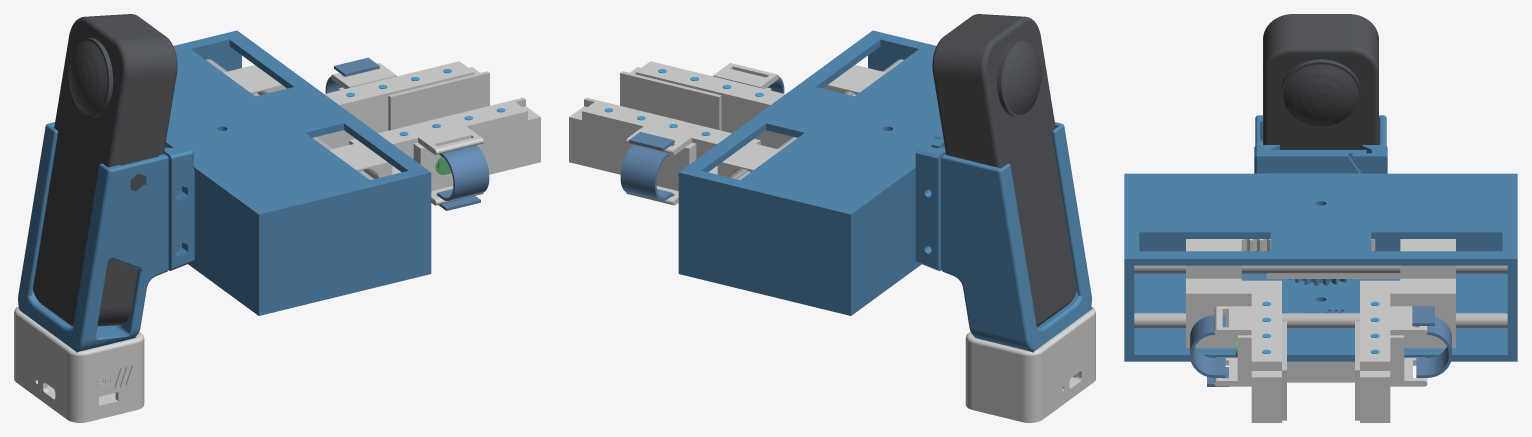
File: parallel_right.glb
3 views of the same model, side by side, from view 1: azimuth 30°, elevation 25°; view 2: azimuth 150°, elevation 25°; view 3: azimuth 270°, elevation 25° (orthographic).
Parts seen in each view (by area): view 1: parallel_base_dc, insta360_x5_envelope, x5_lite_frame, pg_pod, parallel_finger_right_button, parallel_finger_left_sleeve, parallel_pad_left, parallel_strap_right, parallel_carriage_right, parallel_carriage_left, pg_pod_lid, parallel_strap_left; view 2: parallel_base_dc, insta360_x5_envelope, x5_lite_frame, pg_pod, parallel_finger_left_sleeve, parallel_finger_right_button, parallel_pad_right, chopstick_clip_dc, parallel_strap_left, parallel_carriage_left, parallel_carriage_right, pg_pod_lid; view 3: parallel_base_dc, insta360_x5_envelope, parallel_finger_right_button, parallel_finger_left_sleeve, parallel_rod_bottom, parallel_rod_top, parallel_carriage_left, parallel_carriage_right, parallel_strap_left, parallel_strap_right, pg_pod, chopstick_clip_dc (+3 smaller).
Boxes of the visible parts, x1,y1,x2,y2 form: parallel_base_dc: (164,30,431,315); insta360_x5_envelope: (33,14,177,326); x5_lite_frame: (18,122,168,352); pg_pod: (14,306,144,418); parallel_finger_right_button: (349,100,540,205); parallel_finger_left_sleeve: (286,61,479,148); parallel_pad_left: (388,71,489,130); parallel_strap_right: (437,145,489,210); parallel_carriage_right: (329,142,392,178); parallel_carriage_left: (223,65,286,94); pg_pod_lid: (14,375,144,422); parallel_strap_left: (325,57,379,93); parallel_base_dc: (678,30,944,315); insta360_x5_envelope: (932,14,1076,326); x5_lite_frame: (941,122,1091,352); pg_pod: (965,306,1095,418); parallel_finger_left_sleeve: (569,100,760,205); parallel_finger_right_button: (630,61,823,148); parallel_pad_right: (620,71,721,130); chopstick_clip_dc: (915,138,945,271); parallel_strap_left: (620,132,674,200); parallel_carriage_left: (717,142,780,178); parallel_carriage_right: (823,65,886,94); pg_pod_lid: (965,375,1095,422); parallel_base_dc: (1124,145,1517,361); insta360_x5_envelope: (1263,14,1378,149); parallel_finger_right_button: (1186,278,1281,422); parallel_finger_left_sleeve: (1360,278,1455,422); parallel_rod_bottom: (1134,313,1507,328); parallel_rod_top: (1134,265,1507,273); parallel_carriage_left: (1266,239,1455,278); parallel_carriage_right: (1186,239,1375,278); parallel_strap_left: (1412,306,1451,377); parallel_strap_right: (1190,315,1229,386); pg_pod: (1287,361,1354,377); chopstick_clip_dc: (1352,145,1387,173).
Size of the model in its own units: 0.2157 by 0.1583 by 0.156.
